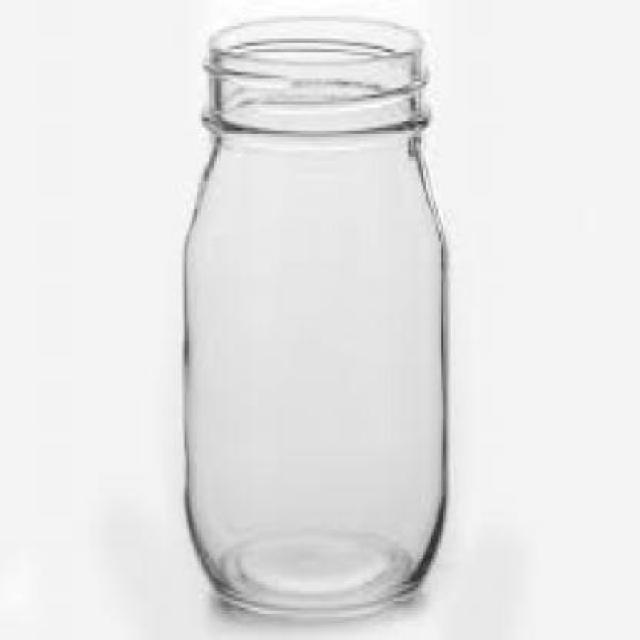kaca: (185, 17, 443, 608)
